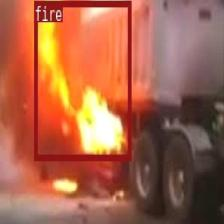fire: (33, 0, 130, 160)
